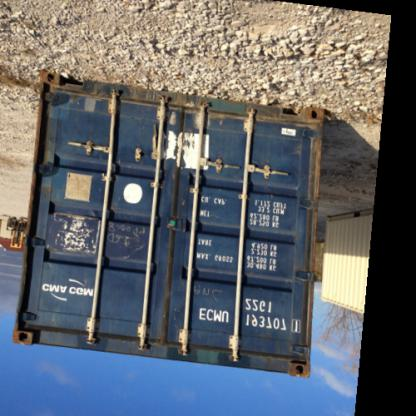Damage: (148, 133, 212, 169), (47, 216, 98, 254), (103, 218, 147, 262), (41, 80, 86, 115), (271, 354, 308, 378), (287, 140, 307, 166), (12, 328, 40, 346)
